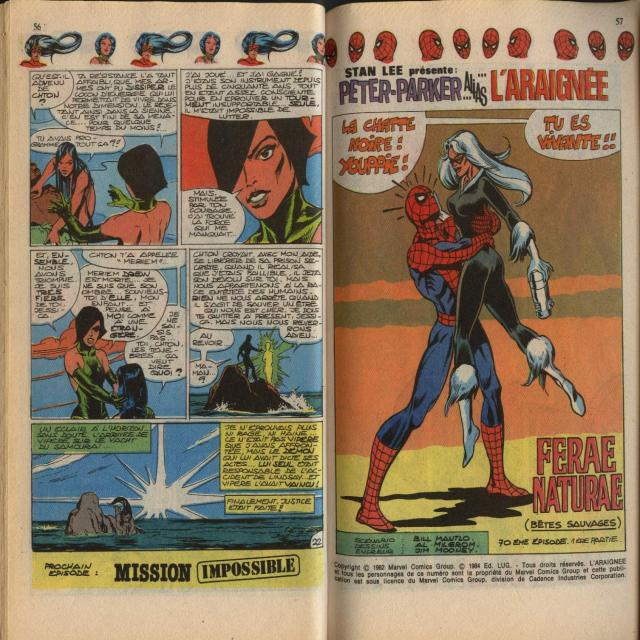comic_panel: (330, 107, 630, 558), (31, 421, 324, 552), (29, 248, 187, 421), (30, 70, 179, 248), (180, 68, 325, 247), (189, 248, 324, 421)
